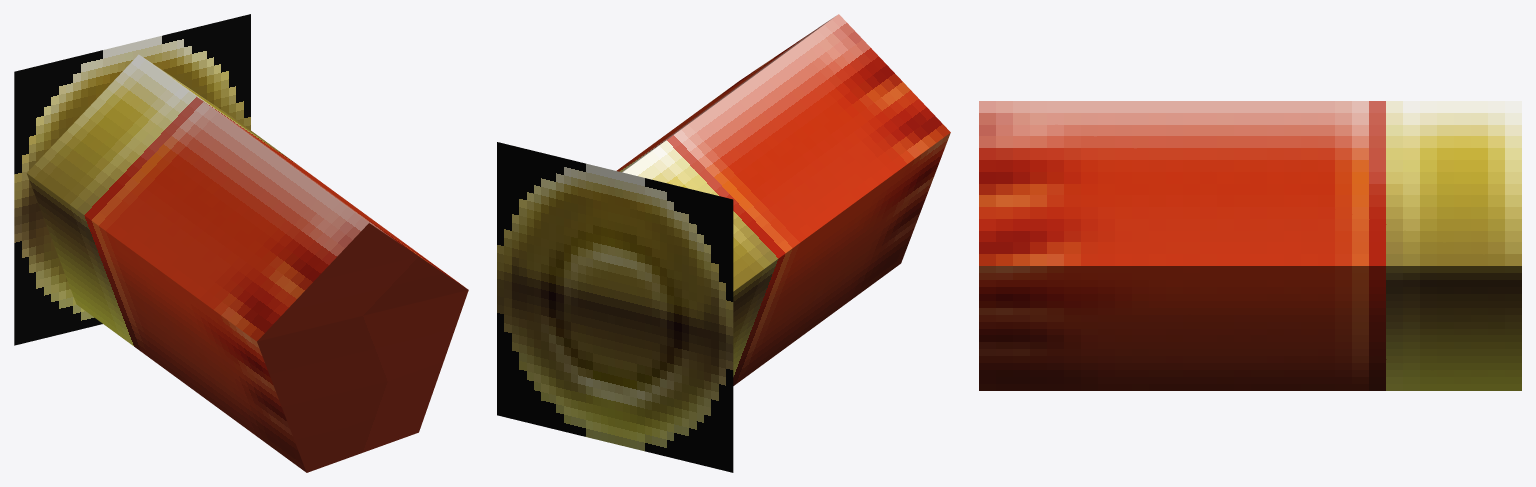
3 views of the same model, side by side, from view 1: azimuth 30°, elevation 25°; view 2: azimuth 150°, elevation 25°; view 3: azimuth 270°, elevation 25° (orthographic). The views are drawn at different scales.
Visible parts, largest first — view 1: prim253-Cylinder01; view 2: prim253-Cylinder01; view 3: prim253-Cylinder01.
Part boxes in pixels (x1=…): prim253-Cylinder01: x1=14, y1=14, x2=468, y2=472; prim253-Cylinder01: x1=497, y1=14, x2=950, y2=472; prim253-Cylinder01: x1=979, y1=101, x2=1521, y2=390.
Bounding box in the file's own units: 19 × 21 × 32.
Materials: 1 (1 with a texture image).
